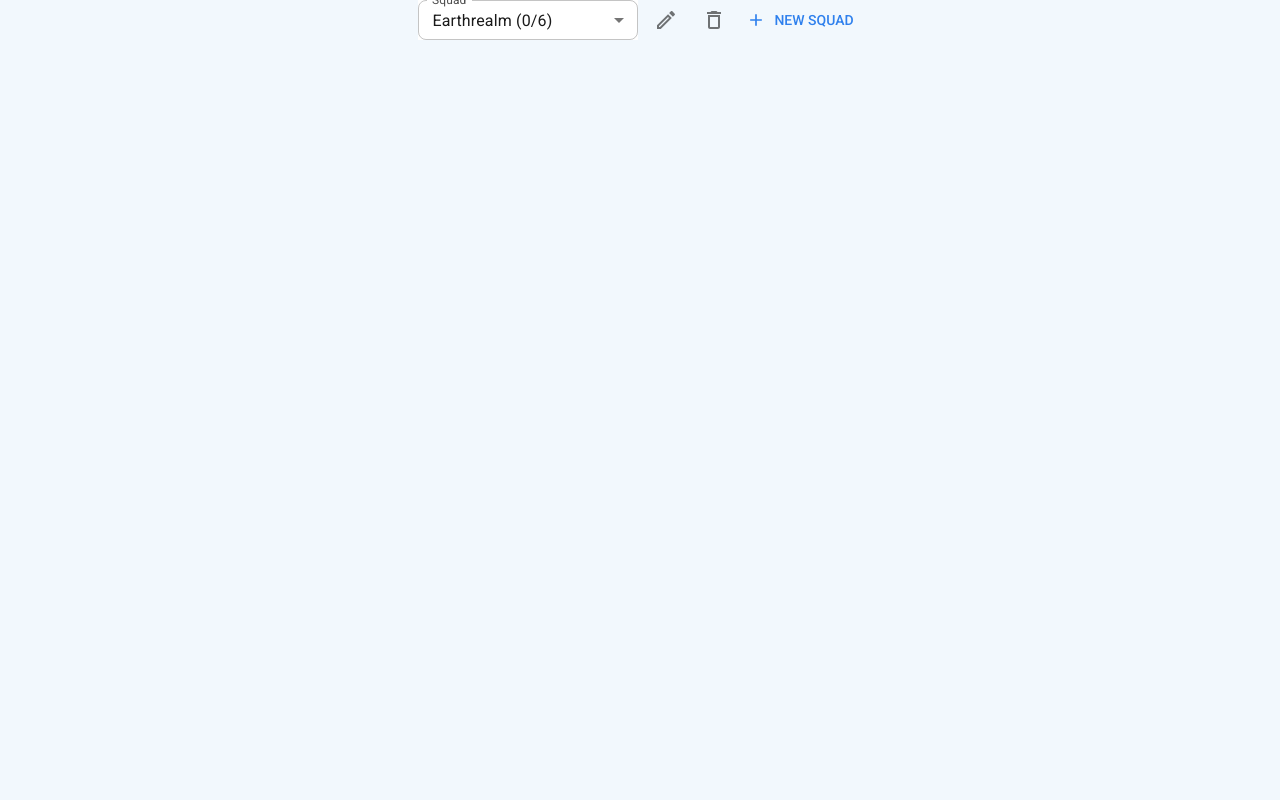
Scenario: SquadPicker › shows a duplicate name error under the name field
Click the button "New squad": (802, 20) [742,2,862,38]
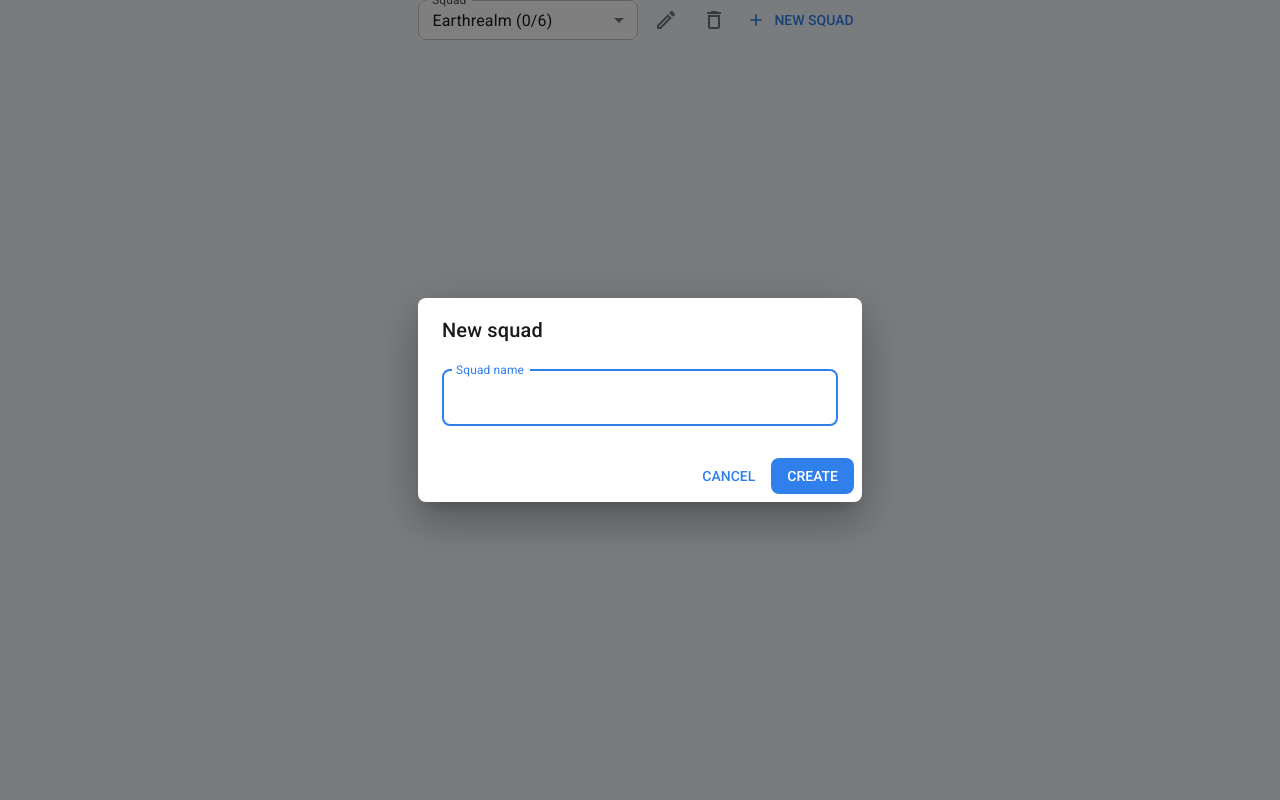
In the field labelled "Squad name": (640, 398) [442,370,838,426], type "Earthrealm"
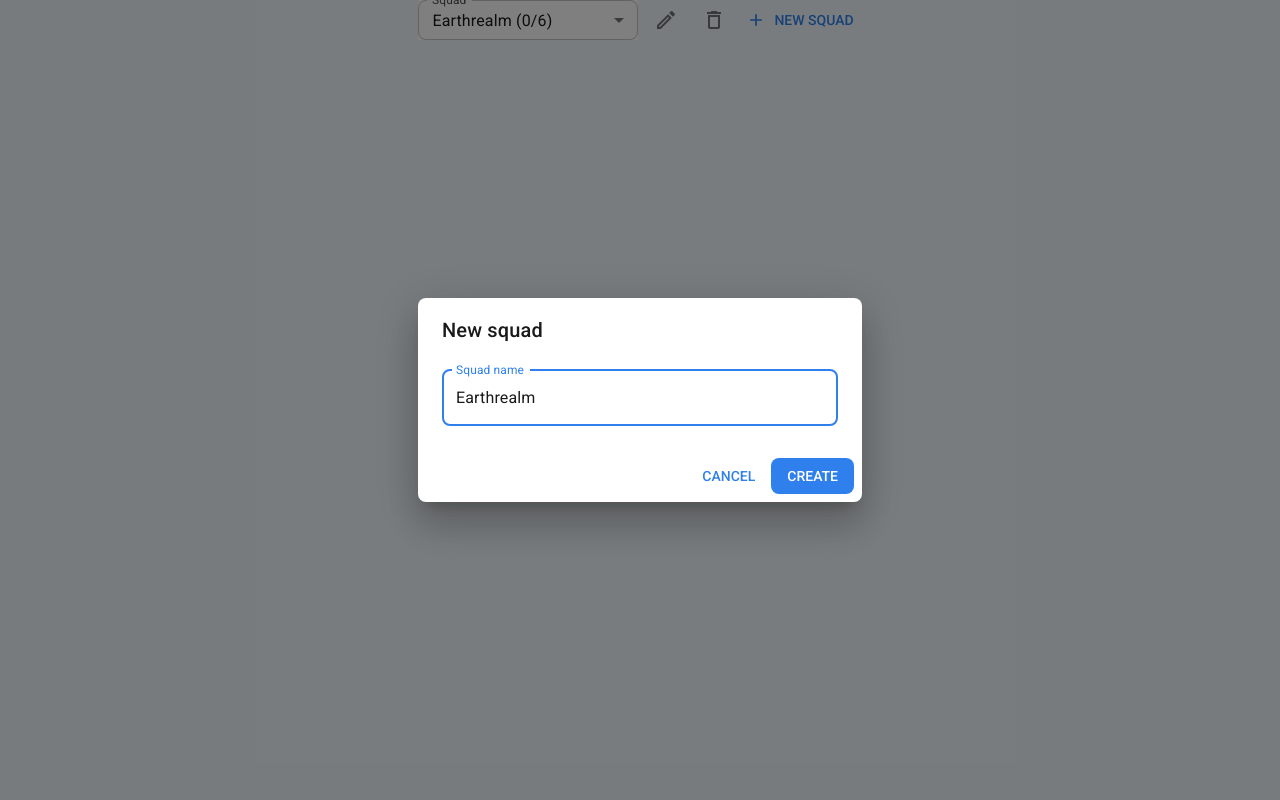
Click the button "Create": (813, 476) [771,458,854,494]
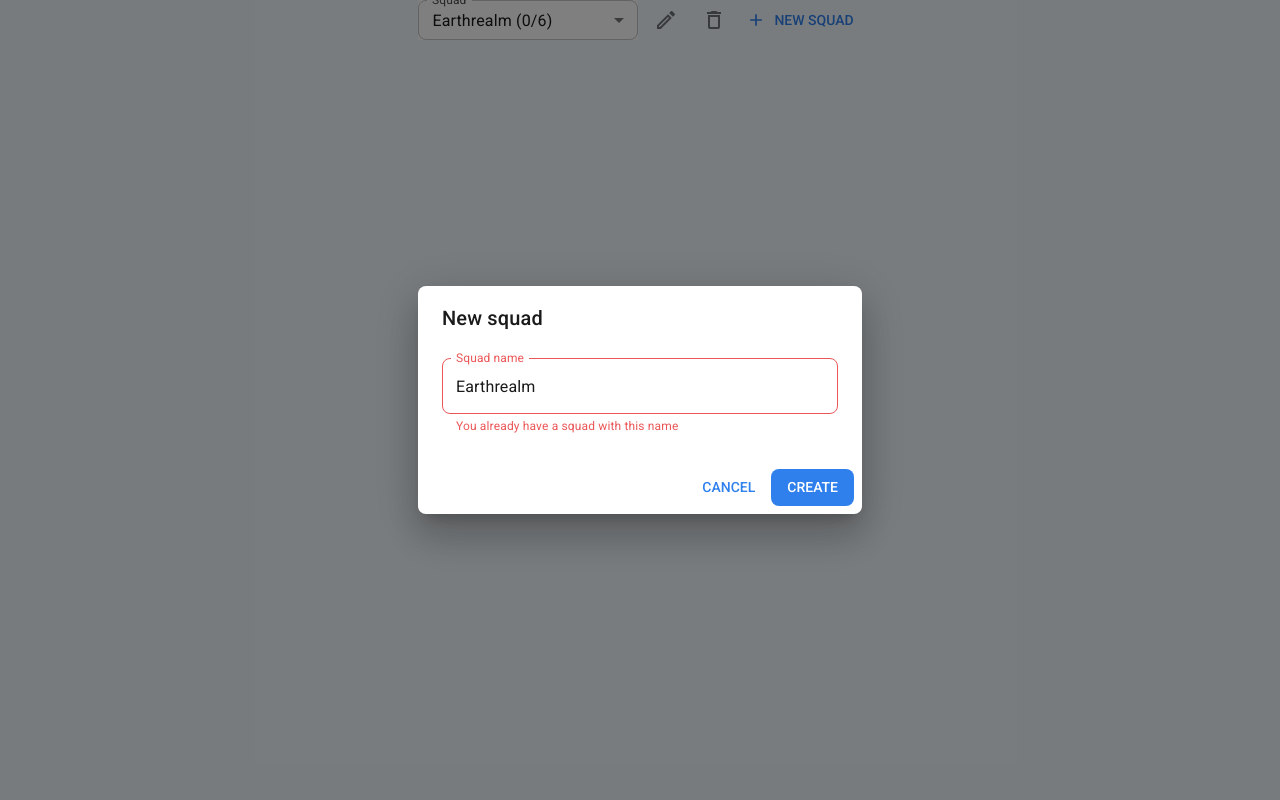
Expected: the dialog is shown, [418,286,862,514]
Expected: the text "You already have a squad with this name" is shown, [456,419,678,433]
